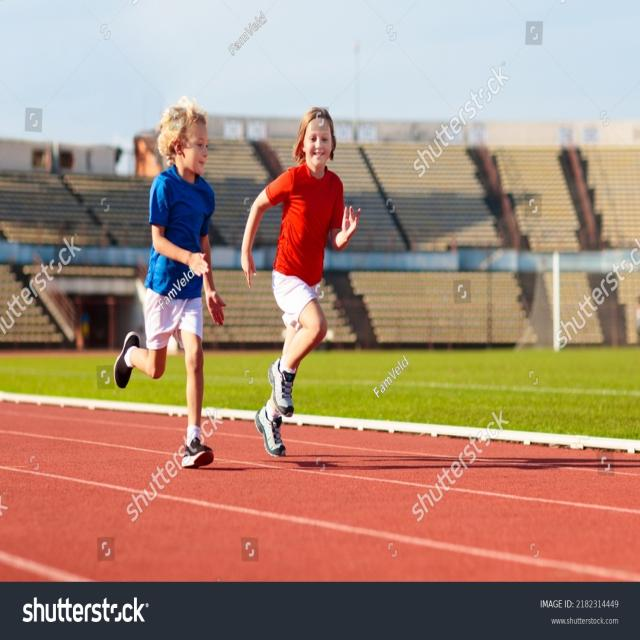Person: (242, 108, 360, 458), (115, 101, 226, 466)
